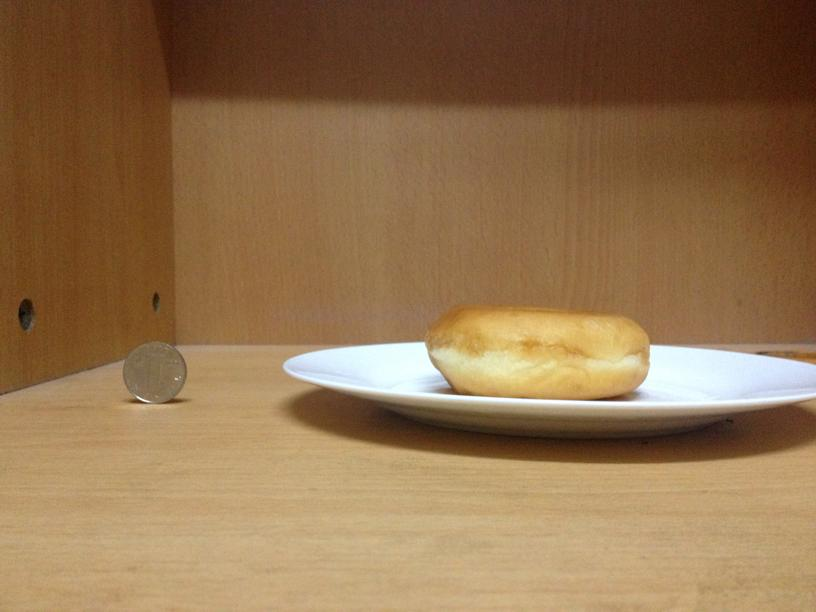coin: (122, 339, 185, 402)
doughnut: (421, 303, 649, 397)
